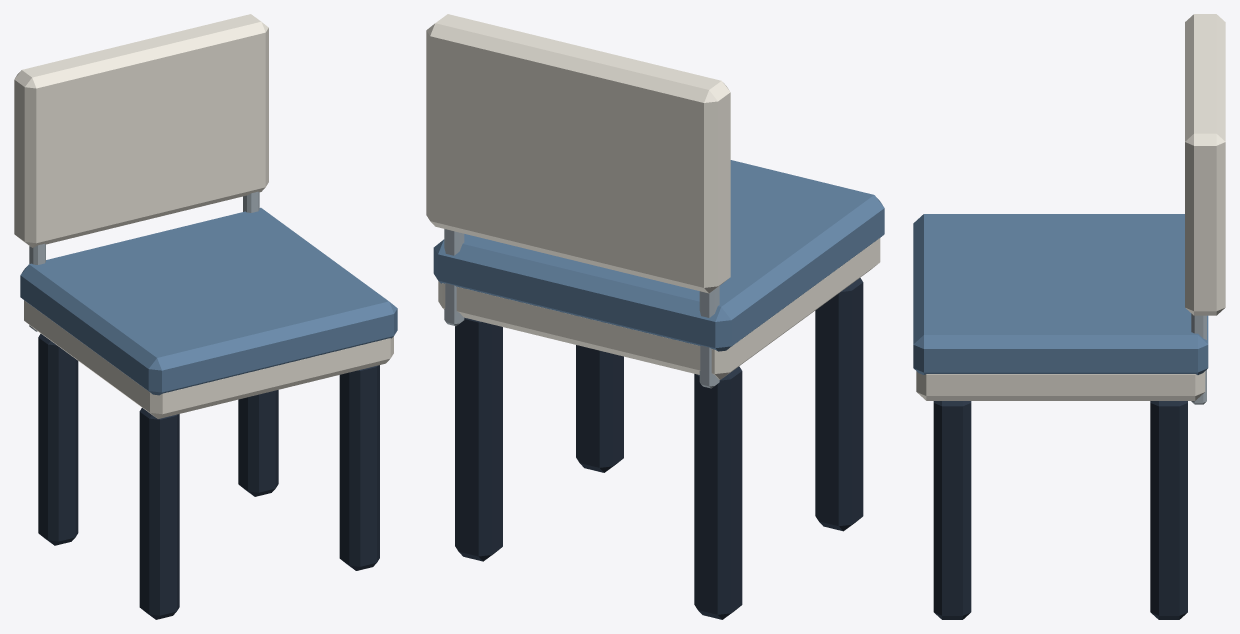
File: lounge_01.glb
3 renders of one model, left to right at view 1: azimuth 30°, elevation 25°; view 2: azimuth 150°, elevation 25°; view 3: azimuth 270°, elevation 25°, orthographic. The views are drawn at different scales.
Visible parts, largest first — view 1: Backrest, Seat, Leg (×4), TableTop; view 2: Backrest, Leg (×4), Seat, TableTop, BackSupport (×2); view 3: Seat, Leg (×2), Backrest, TableTop, BackSupport.
Boxes of the visible parts, x1,y1,x2,y2 form: Backrest: (14, 14, 268, 247); Seat: (20, 207, 397, 395); Leg (×4): (38, 333, 379, 619); TableTop: (24, 300, 393, 418); Backrest: (426, 14, 730, 293); Leg (×4): (455, 278, 863, 619); Seat: (433, 160, 884, 351); TableTop: (438, 238, 880, 379); BackSupport (×2): (444, 229, 719, 388); Seat: (913, 214, 1208, 374); Leg (×2): (933, 401, 1187, 619); Backrest: (1185, 14, 1225, 315); TableTop: (916, 371, 1205, 400); BackSupport: (1191, 313, 1206, 404).
Size of the model in its own units: 0.49 by 0.86 by 0.4975.
